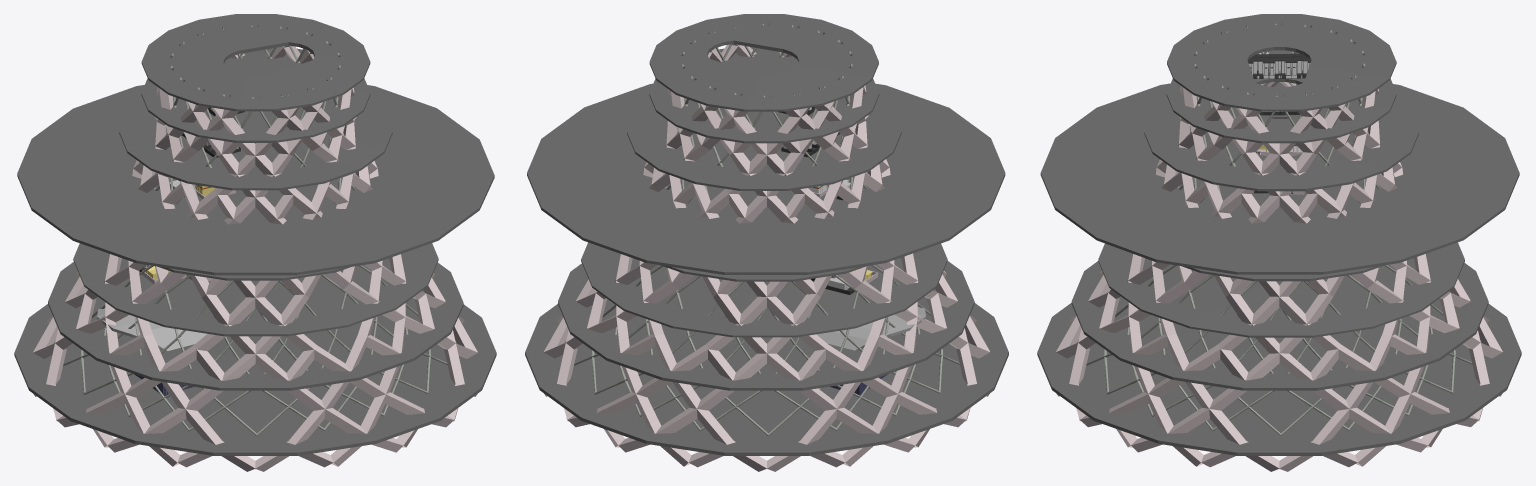
File: The_levelBACKGROUND_Terrace_house_only.fbx
3 views of the same model, side by side, from view 1: azimuth 30°, elevation 25°; view 2: azimuth 150°, elevation 25°; view 3: azimuth 270°, elevation 25° (orthographic).
Visible parts, largest first — view 1: Cylinder.006 Floor, Cylinder.004 thick walls, Cylinder.005 thin wall, Cube.219; view 2: Cylinder.006 Floor, Cylinder.004 thick walls, Cylinder.005 thin wall, Cube.219; view 3: Cylinder.006 Floor, Cylinder.004 thick walls, Cylinder.005 thin wall.
Boxes of the visible parts, <box> form: Cylinder.006 Floor: <box>14,14,496,455</box>; Cylinder.004 thick walls: <box>33,45,477,471</box>; Cylinder.005 thin wall: <box>63,25,447,436</box>; Cube.219: <box>97,308,207,395</box>; Cylinder.006 Floor: <box>525,14,1008,455</box>; Cylinder.004 thick walls: <box>544,44,989,471</box>; Cylinder.005 thin wall: <box>574,23,959,436</box>; Cube.219: <box>816,307,925,395</box>; Cylinder.006 Floor: <box>1037,14,1521,455</box>; Cylinder.004 thick walls: <box>1056,51,1502,471</box>; Cylinder.005 thin wall: <box>1086,23,1472,435</box>.
Bounding box in the file's own units: 683352 × 504051 × 693894.
